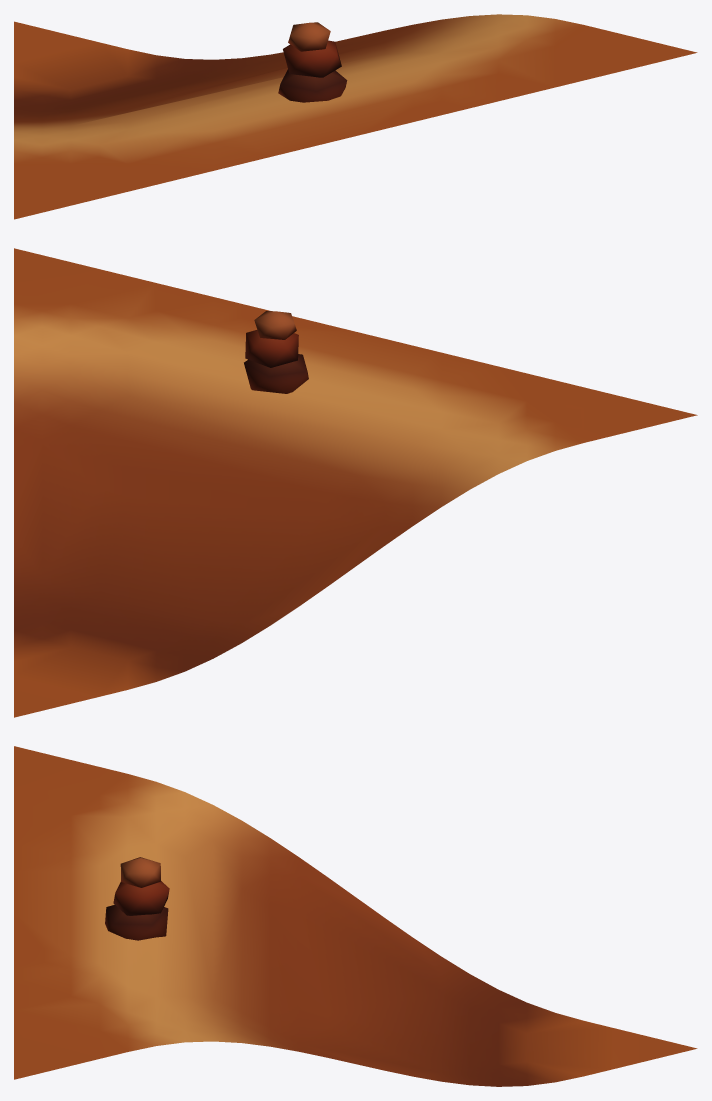
The model's file is MODULE_DESERT_RAMP_SIDE_ROCKS.fbx.
3 views of the same model, one above another, from view 1: azimuth 30°, elevation 25°; view 2: azimuth 150°, elevation 25°; view 3: azimuth 270°, elevation 25° (orthographic).
Parts seen in each view (by area): view 1: MODULE_DESERT_RAMP_SIDE_ROCKS__export, MODULE_DESERT_RAMP_SIDE_ROCKS_DECOR__export; view 2: MODULE_DESERT_RAMP_SIDE_ROCKS__export, MODULE_DESERT_RAMP_SIDE_ROCKS_DECOR__export; view 3: MODULE_DESERT_RAMP_SIDE_ROCKS__export, MODULE_DESERT_RAMP_SIDE_ROCKS_DECOR__export.
Boxes of the visible parts, left/top/right/bottom form: MODULE_DESERT_RAMP_SIDE_ROCKS__export: left=14, top=14, right=697, bottom=219; MODULE_DESERT_RAMP_SIDE_ROCKS_DECOR__export: left=278, top=22, right=347, bottom=102; MODULE_DESERT_RAMP_SIDE_ROCKS__export: left=14, top=248, right=697, bottom=717; MODULE_DESERT_RAMP_SIDE_ROCKS_DECOR__export: left=244, top=311, right=308, bottom=393; MODULE_DESERT_RAMP_SIDE_ROCKS__export: left=14, top=746, right=697, bottom=1086; MODULE_DESERT_RAMP_SIDE_ROCKS_DECOR__export: left=105, top=857, right=169, bottom=940.
Bounding box in the file's own units: 100 × 27.73 × 86.6.
